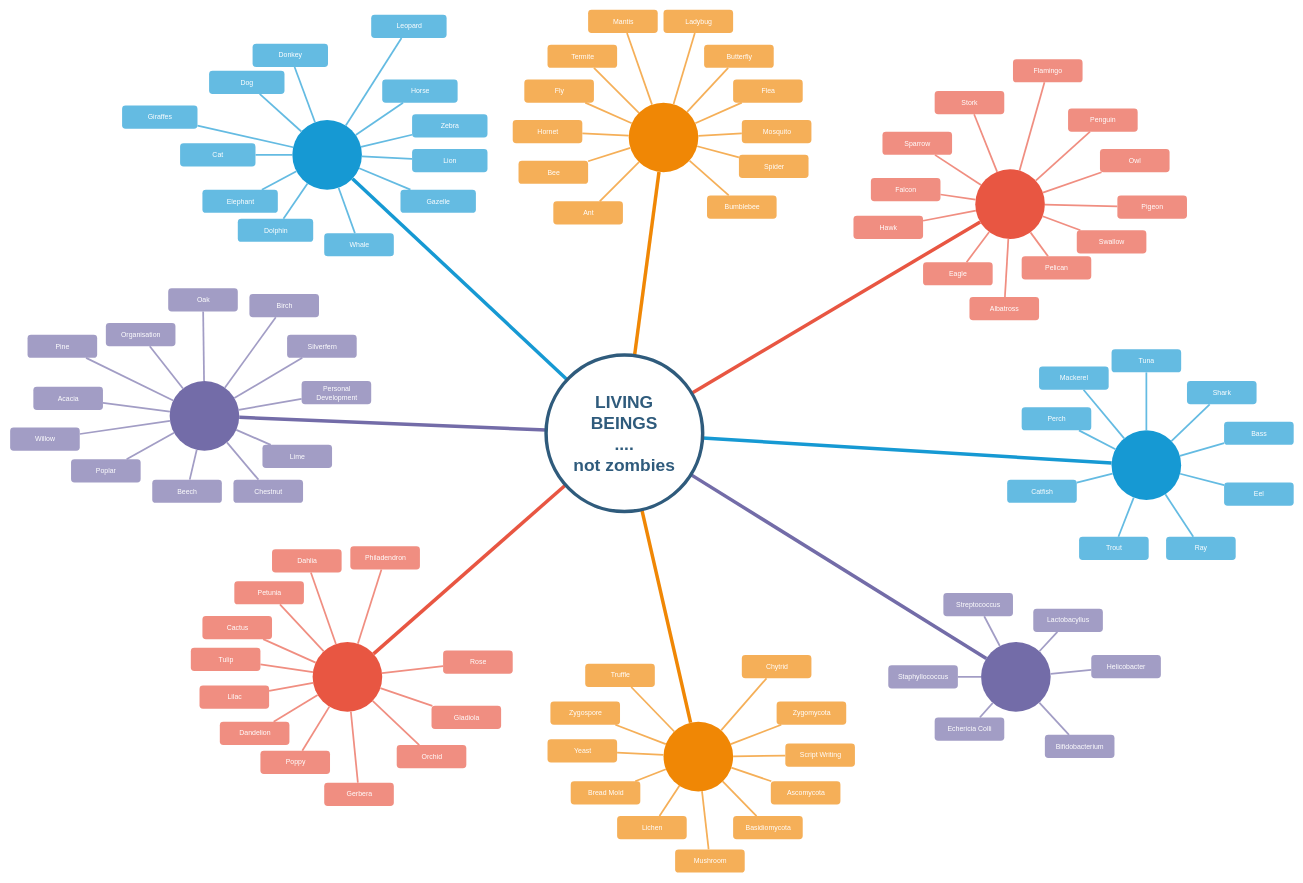
The diagram is 1303 pixels wide and 883 high, and some of its shapes have lost their labels. Here are the shapes that lost their labels. From the top down, the centre of each, then its label:
At (x=327, y=154): "PQ".
At (x=663, y=137): "Insect".
At (x=1010, y=204): "Bird".
At (x=204, y=415): "Tree".
At (x=1146, y=465): "Fish".
At (x=347, y=676): "Flower".
At (x=1015, y=676): "Bacteria".
At (x=698, y=756): "Fungi".
